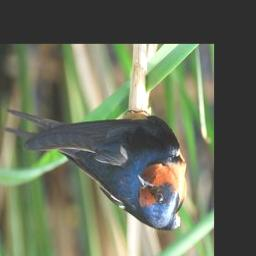Swallow: (3, 107, 188, 235)
